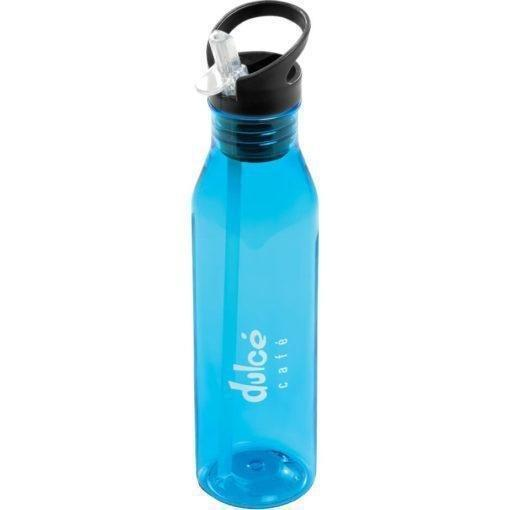gym bottle: (188, 0, 324, 509)
